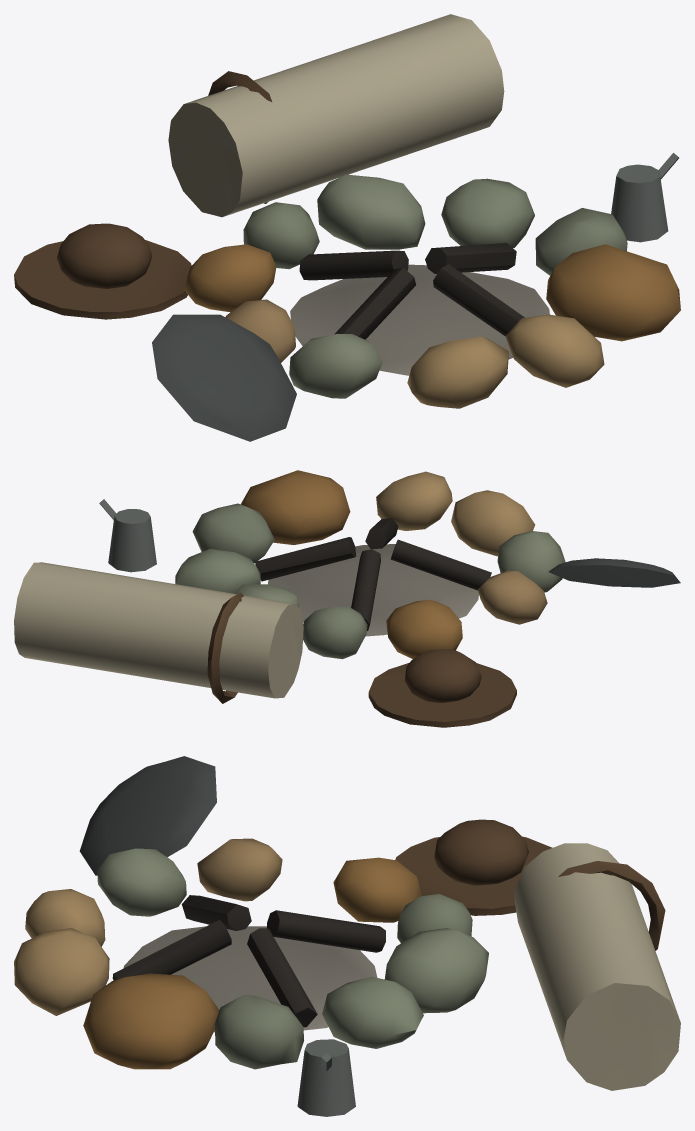
Rendered from fire_ring_b_lod1.glb.
The picture shows the model from 3 angles, top to bottom: view 1: azimuth 30°, elevation 25°; view 2: azimuth 150°, elevation 25°; view 3: azimuth 270°, elevation 25°; orthographic projection. The views are drawn at different scales.
Visible parts, largest first — view 1: Surface.001; view 2: Surface.001; view 3: Surface.001.
Boxes of the visible parts, x1,y1,x2,y2 form: Surface.001: (14,14,680,441); Surface.001: (14,470,680,727); Surface.001: (14,756,680,1116).
Size of the model in its own units: 2.75 by 0.5654 by 2.59.
